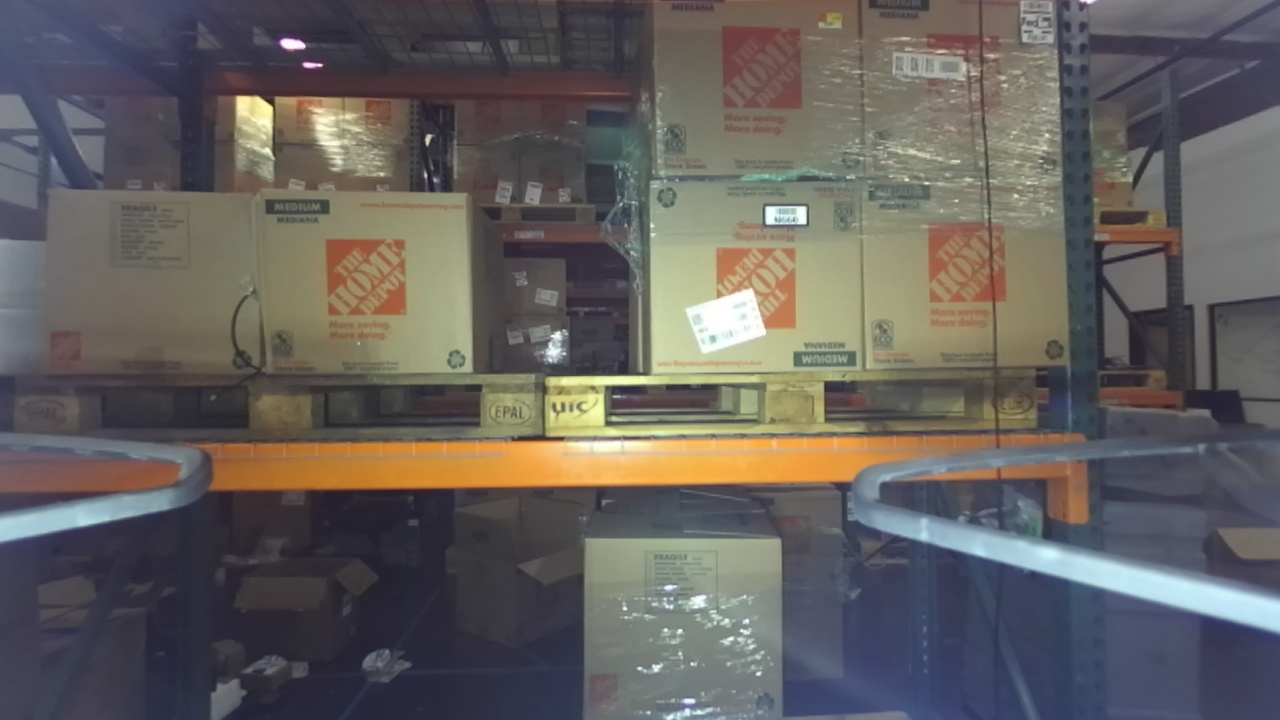box: (615, 158, 880, 393), (28, 171, 280, 401), (857, 148, 1081, 386), (253, 173, 493, 394), (554, 526, 808, 719), (845, 1, 1076, 188), (620, 4, 869, 177)
